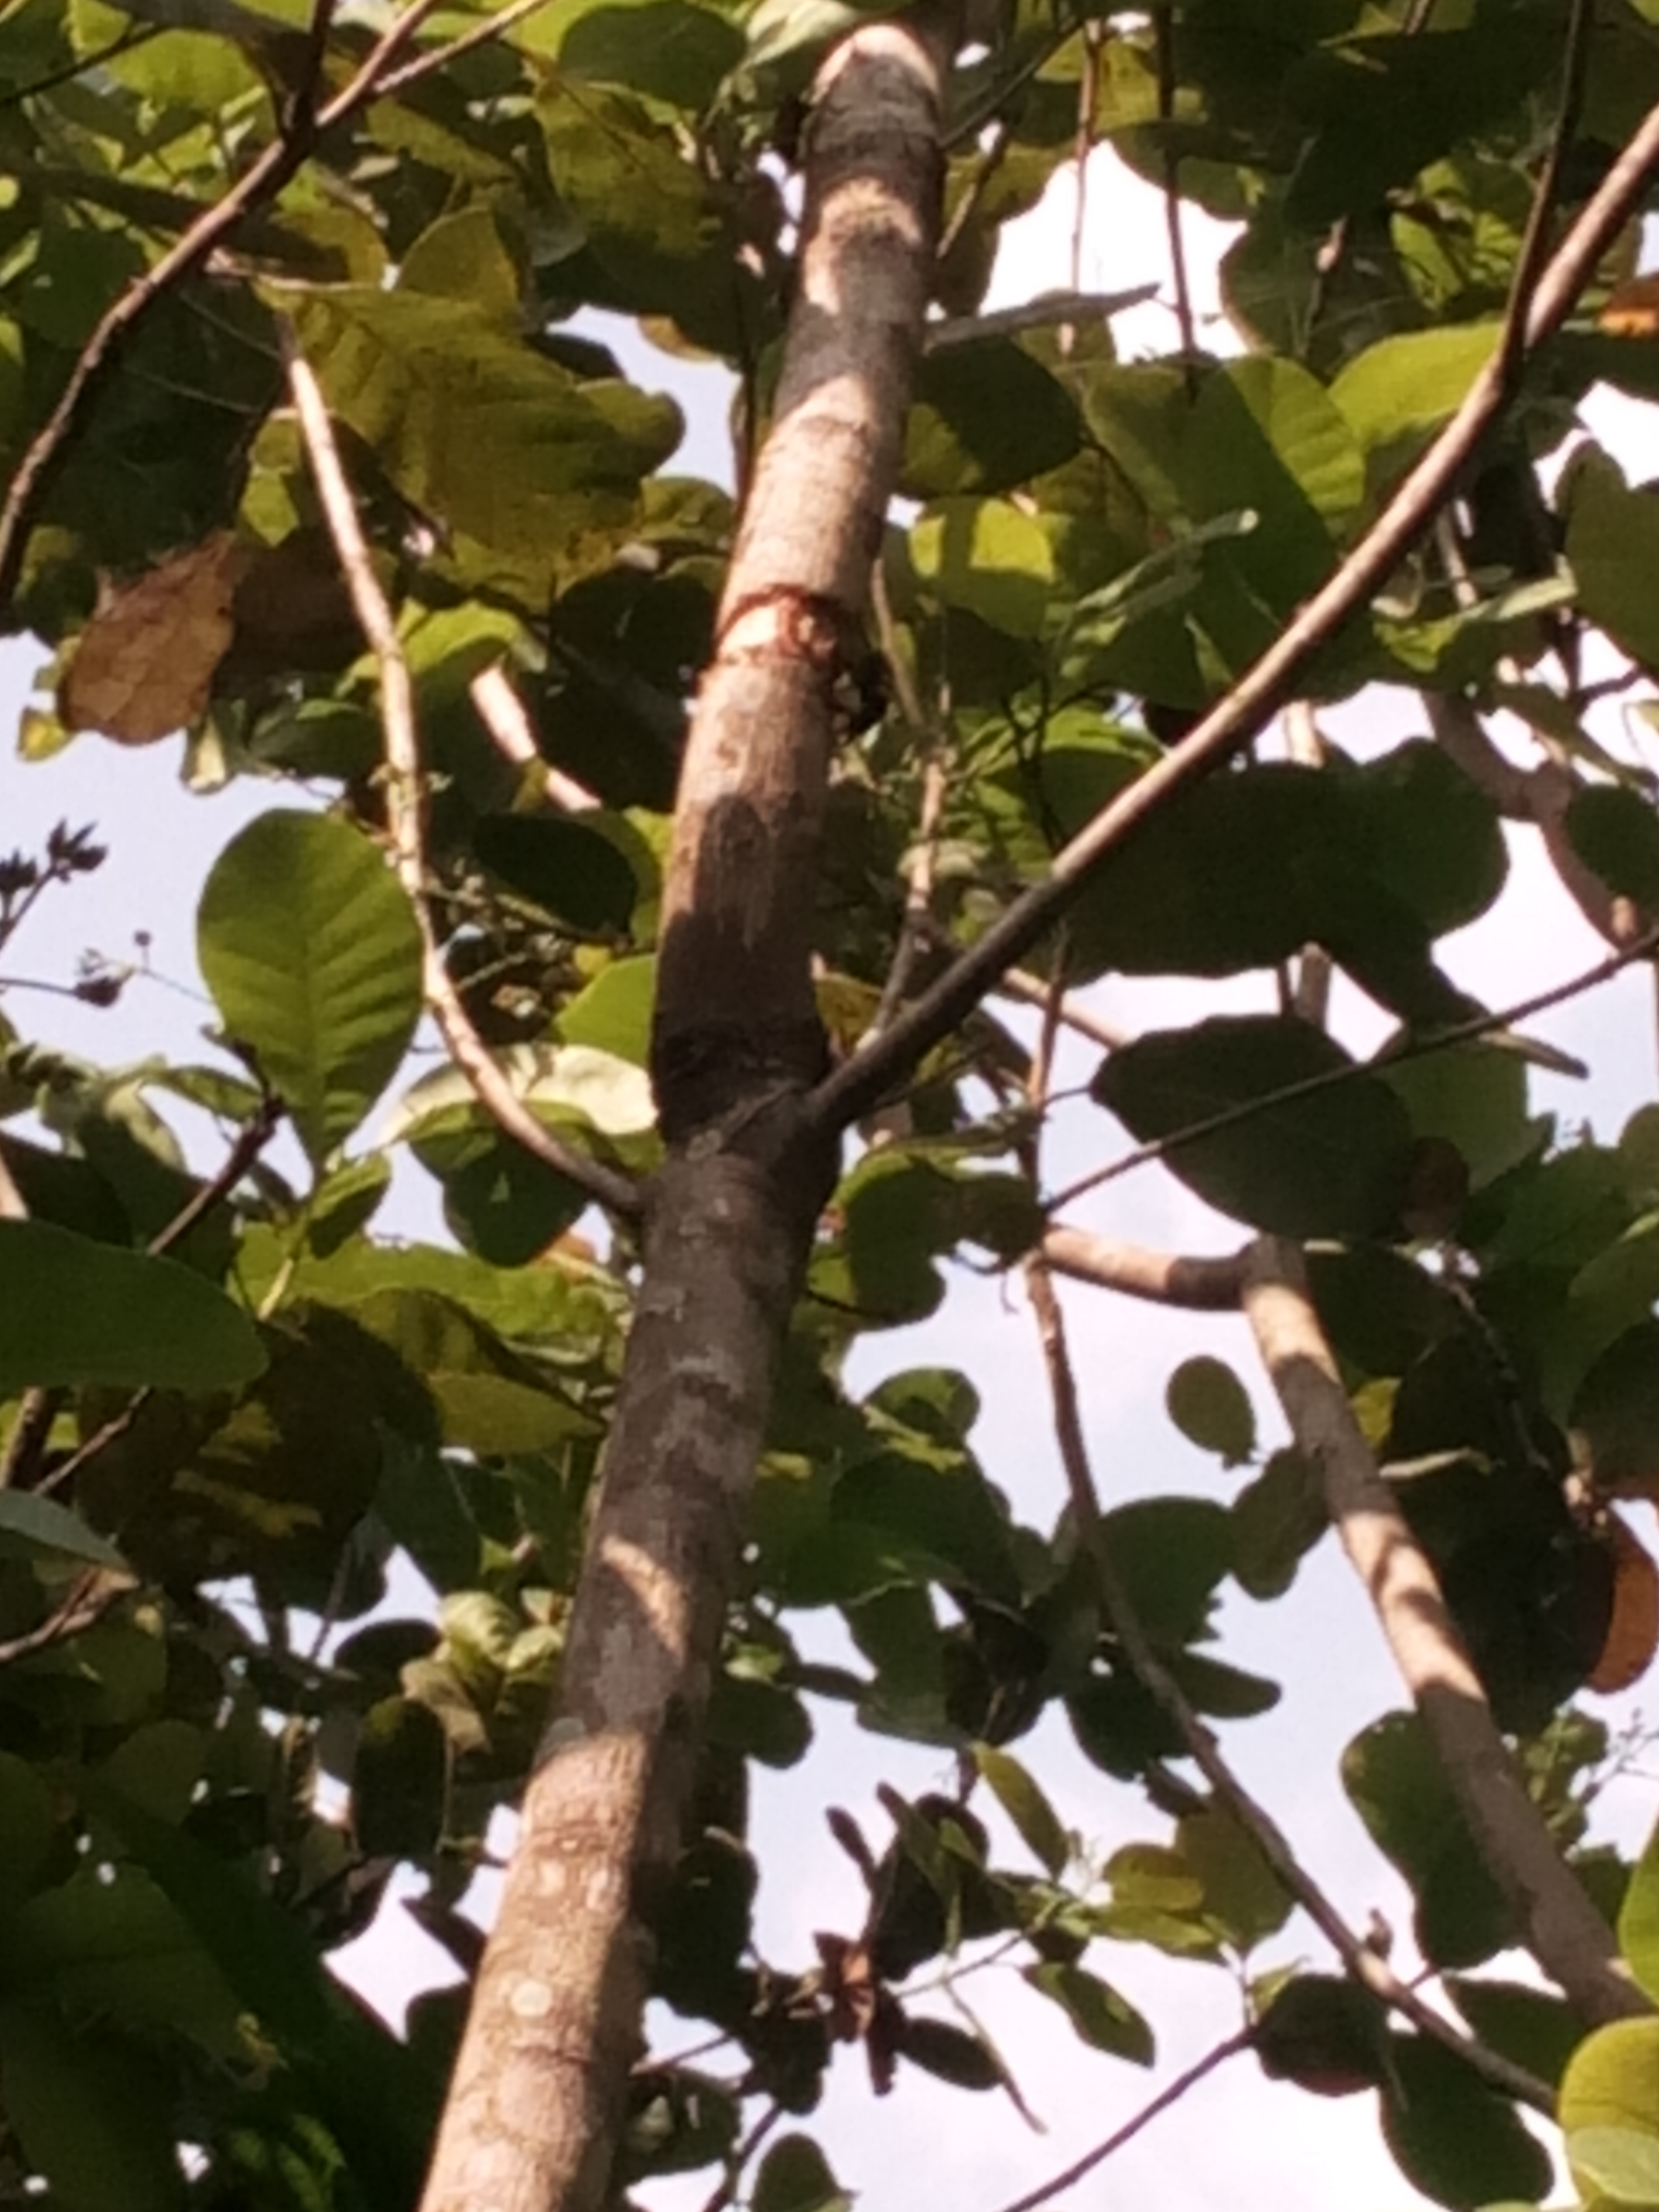Analepse trifasciata: (653, 568, 958, 737)
